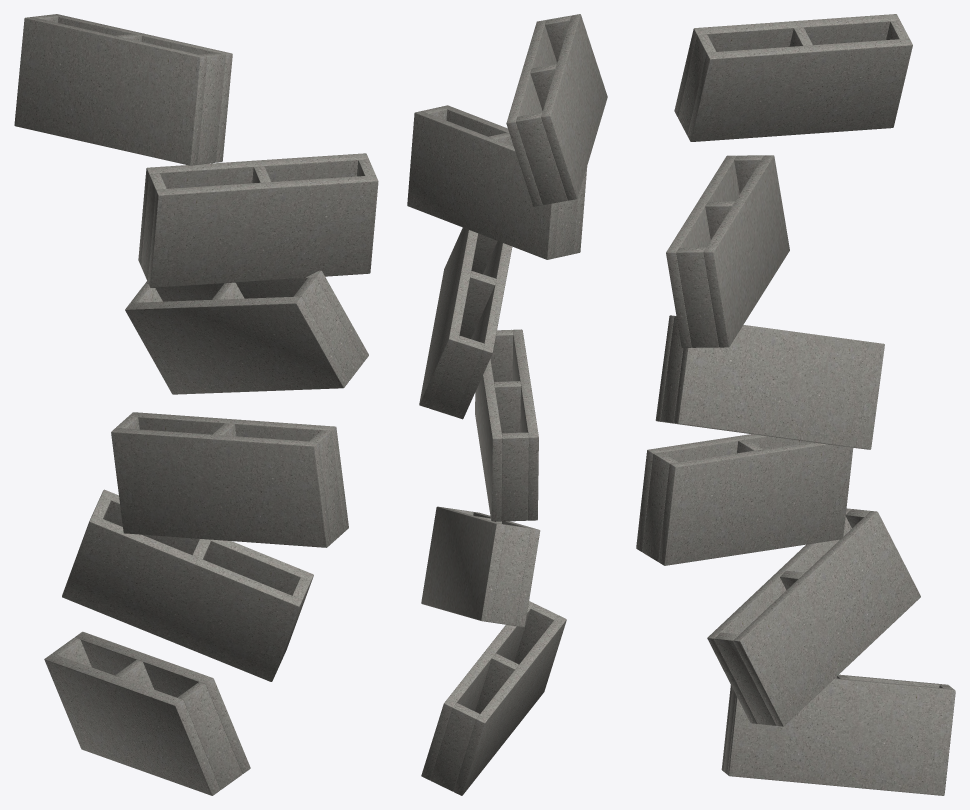
Rendered from ALV-BCO-006_anim.glb.
The picture shows the model from 3 angles, left to right: view 1: azimuth 30°, elevation 25°; view 2: azimuth 150°, elevation 25°; view 3: azimuth 270°, elevation 25°; orthographic projection. The views are drawn at different scales.
Parts seen in each view (by area): view 1: ALV-BCO-006_anim4, ALV-BCO-006_anim2, ALV-BCO-006_anim5, ALV-BCO-006_anim1, ALV-BCO-006_anim3, ALV-BCO-006_anim0; view 2: ALV-BCO-006_anim4, ALV-BCO-006_anim5, ALV-BCO-006_anim0, ALV-BCO-006_anim1, ALV-BCO-006_anim3, ALV-BCO-006_anim2; view 3: ALV-BCO-006_anim5, ALV-BCO-006_anim1, ALV-BCO-006_anim2, ALV-BCO-006_anim3, ALV-BCO-006_anim0, ALV-BCO-006_anim4.
Part boxes in pixels (bbox=[...]): ALV-BCO-006_anim4: bbox=[138, 153, 378, 287]; ALV-BCO-006_anim2: bbox=[111, 412, 348, 547]; ALV-BCO-006_anim5: bbox=[14, 14, 232, 165]; ALV-BCO-006_anim1: bbox=[62, 489, 313, 681]; ALV-BCO-006_anim3: bbox=[125, 270, 368, 394]; ALV-BCO-006_anim0: bbox=[44, 631, 250, 795]; ALV-BCO-006_anim4: bbox=[407, 105, 587, 259]; ALV-BCO-006_anim5: bbox=[506, 14, 607, 206]; ALV-BCO-006_anim0: bbox=[421, 601, 566, 795]; ALV-BCO-006_anim1: bbox=[421, 506, 540, 627]; ALV-BCO-006_anim3: bbox=[419, 227, 512, 419]; ALV-BCO-006_anim2: bbox=[475, 329, 538, 521]; ALV-BCO-006_anim5: bbox=[674, 14, 912, 141]; ALV-BCO-006_anim1: bbox=[707, 508, 920, 726]; ALV-BCO-006_anim2: bbox=[636, 434, 853, 565]; ALV-BCO-006_anim3: bbox=[655, 315, 884, 449]; ALV-BCO-006_anim0: bbox=[721, 674, 955, 795]; ALV-BCO-006_anim4: bbox=[666, 155, 789, 347].
Size of the model in its own units: 0.5293 by 1.49 by 0.5677.
1 material, 1 textured.
